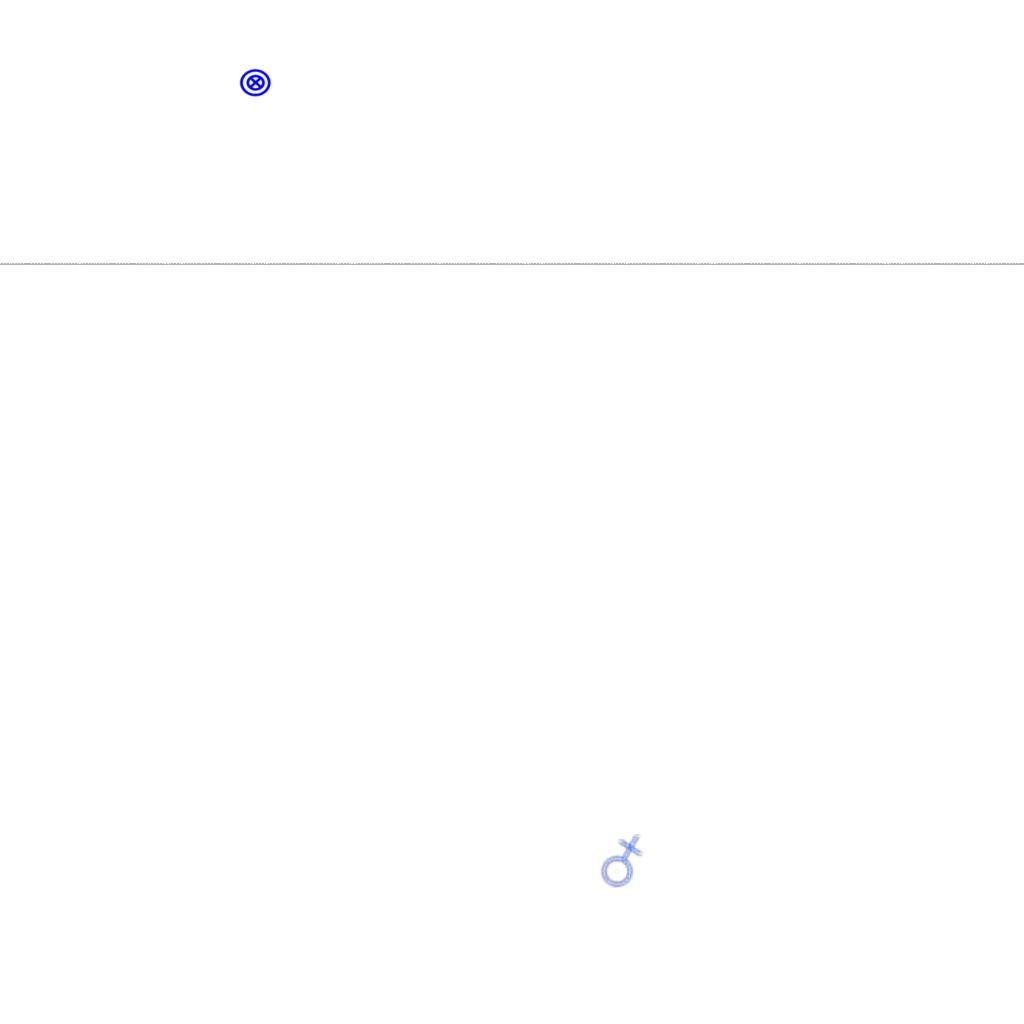Elektroanschluss_allgemein_230V_Geraeteanschlussdose_230V: (590, 832, 651, 891)
Taster_beleuchtet: (239, 66, 272, 99)
